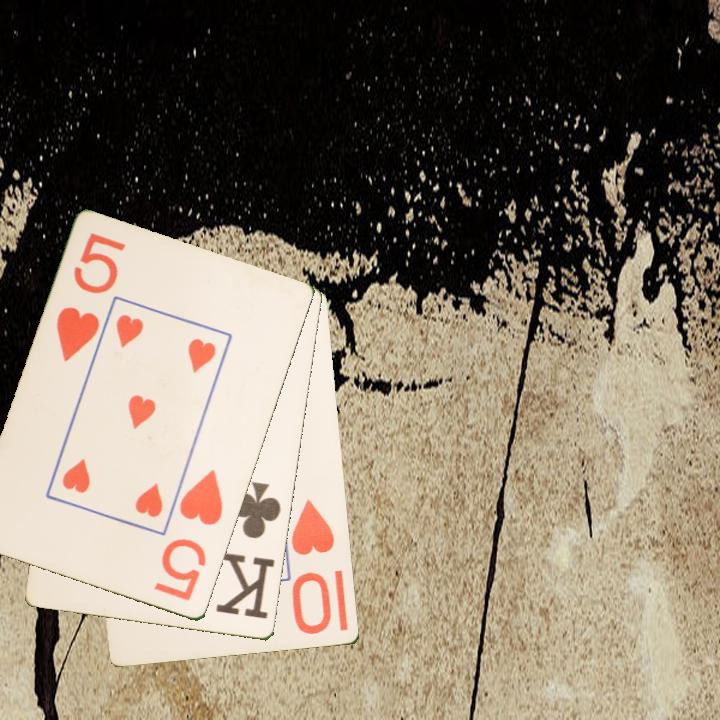10h: (288, 496, 338, 638)
5h: (150, 466, 227, 605), (53, 229, 129, 366)
Kc: (214, 478, 284, 622)
